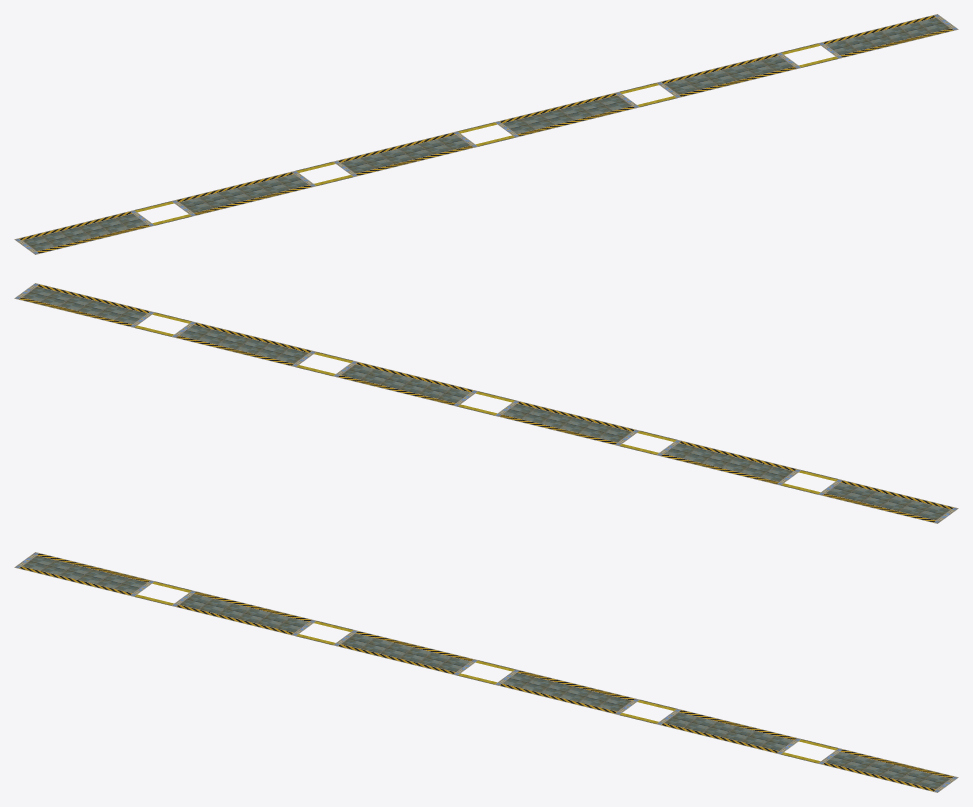
Rendered from S23_ONS_12.obj.
3 renders of one model, top to bottom at view 1: azimuth 30°, elevation 25°; view 2: azimuth 150°, elevation 25°; view 3: azimuth 330°, elevation 25°, orthographic.
Parts seen in each view (by area): view 1: Object_2; view 2: Object_2; view 3: Object_2.
Boxes of the visible parts, x1,y1,x2,y2 form: Object_2: (14, 14, 958, 254); Object_2: (14, 283, 958, 523); Object_2: (14, 552, 958, 792).
Size of the model in its own units: 4000 by 0 by 160.
